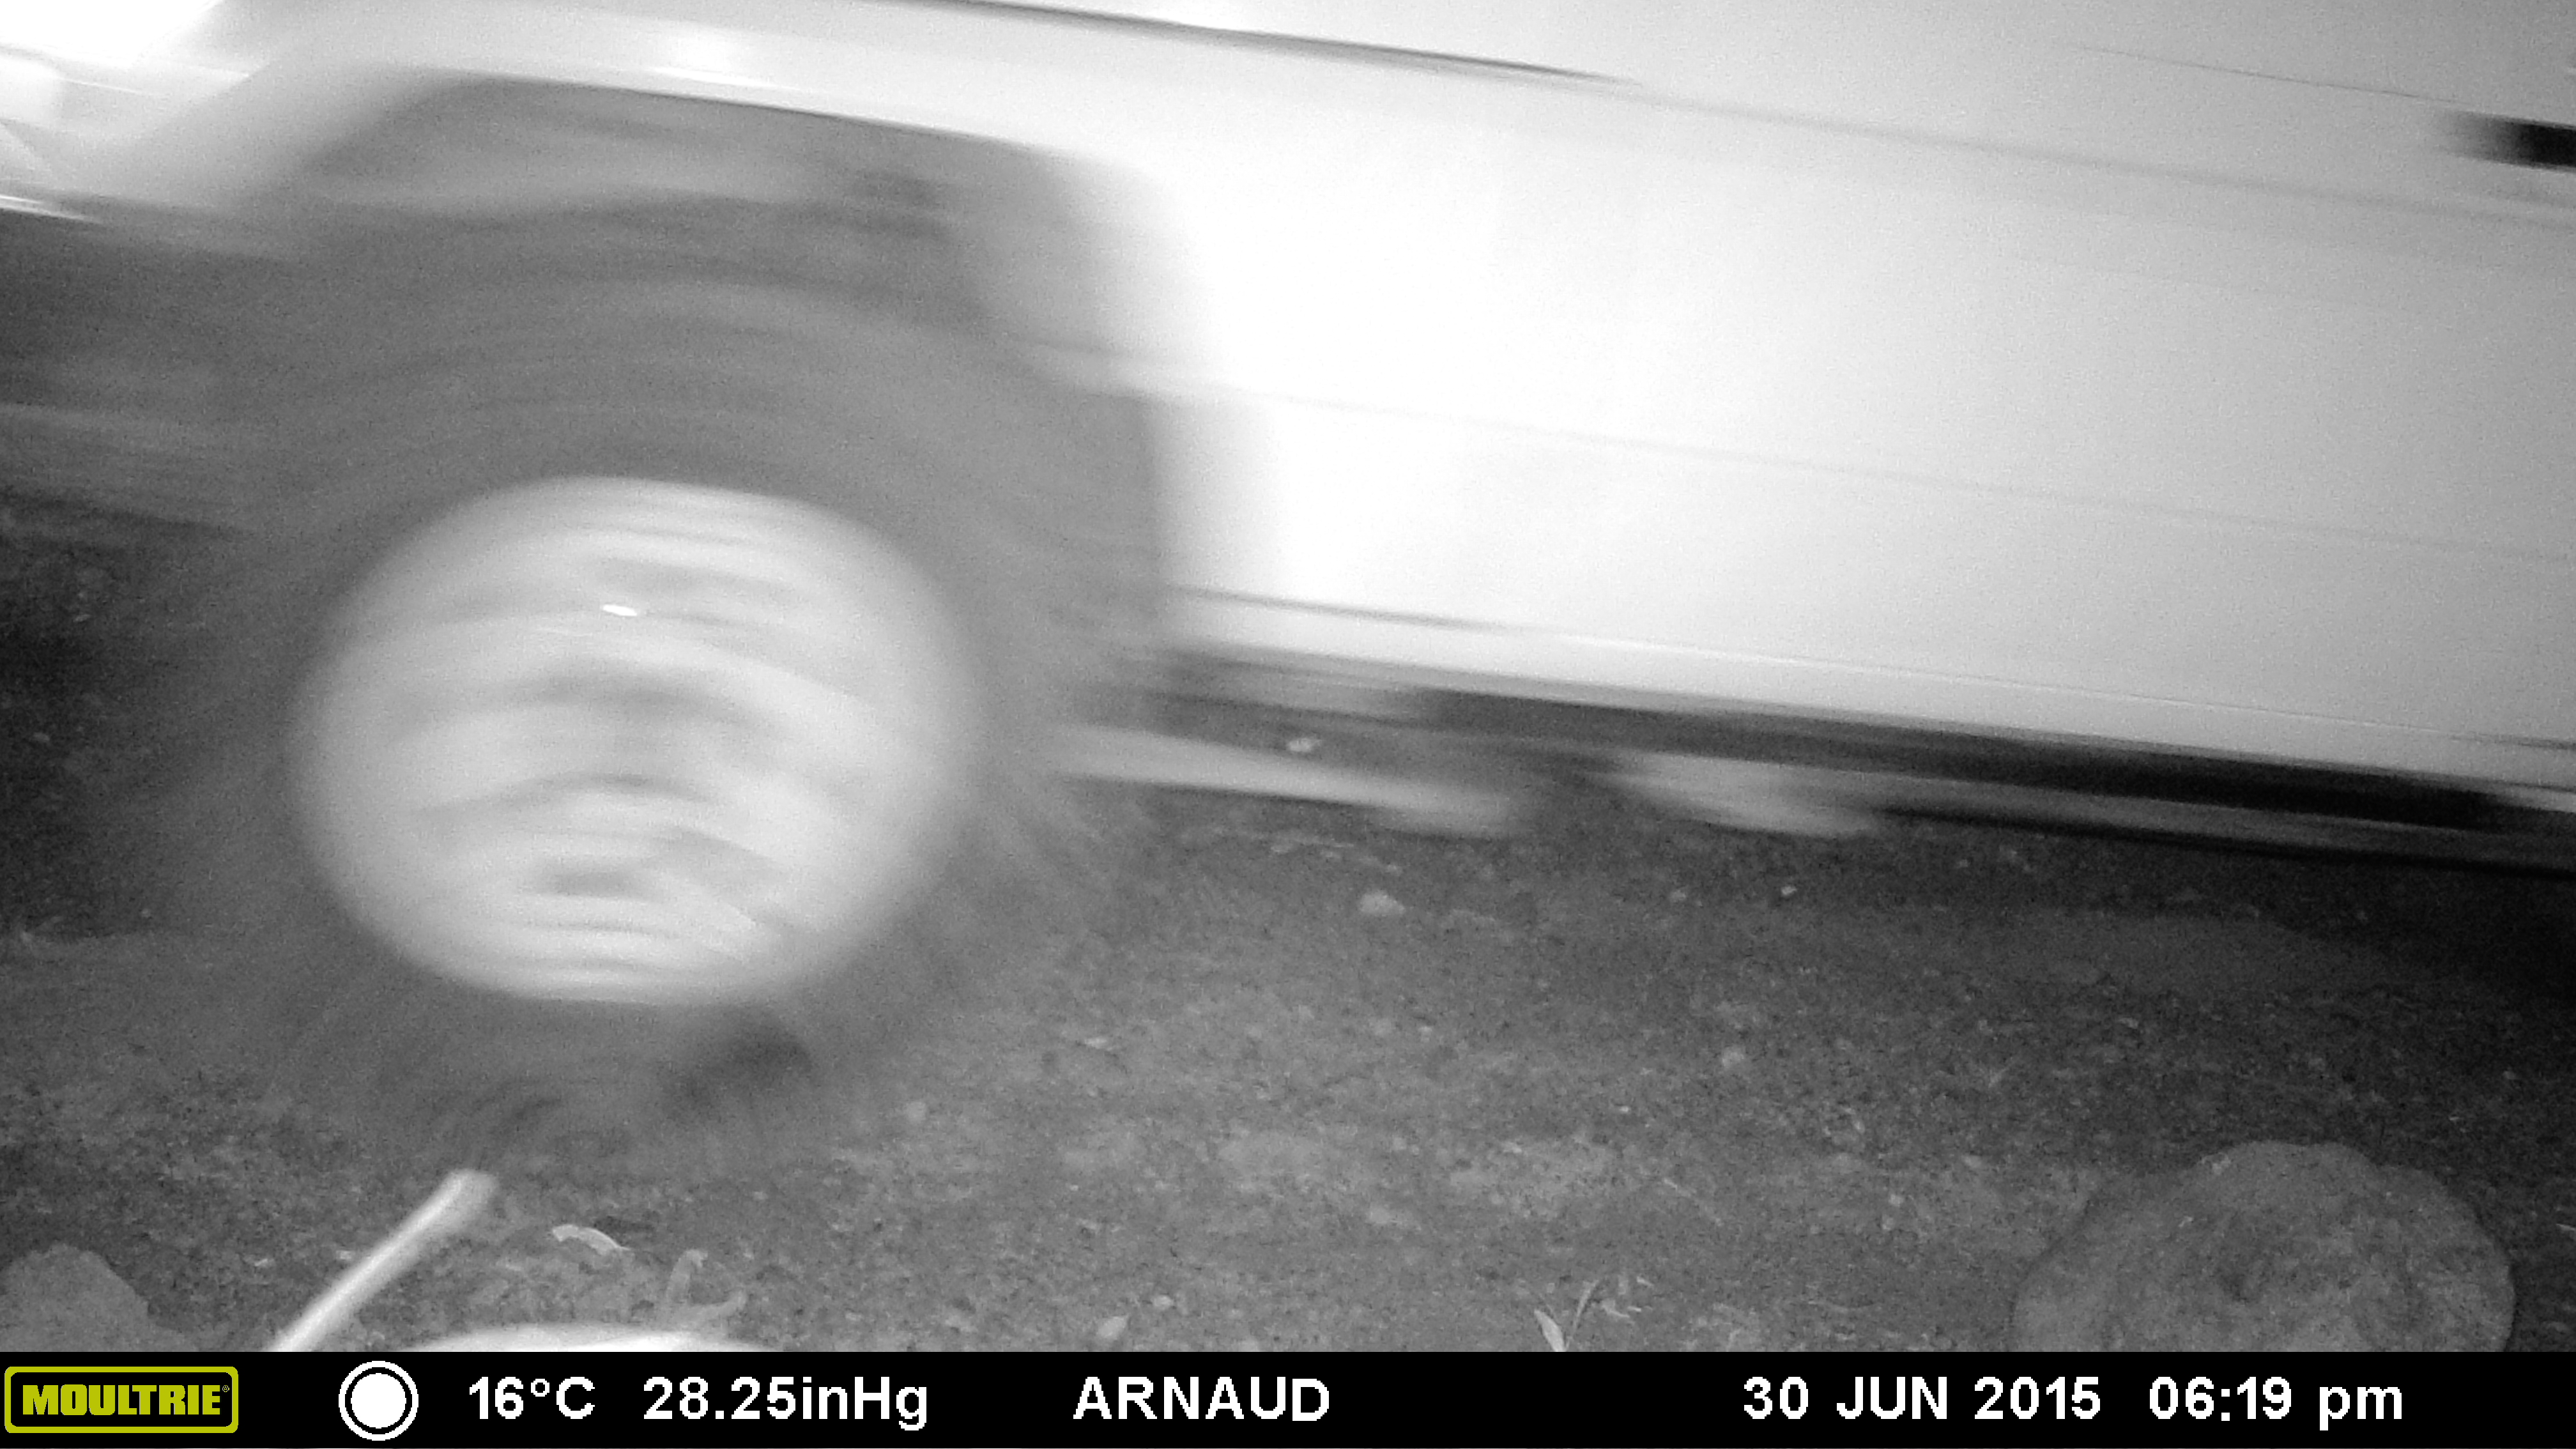Car: (5, 2, 2571, 1148)
